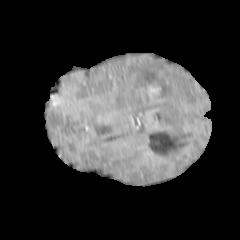glioma: (113, 58, 197, 129)
